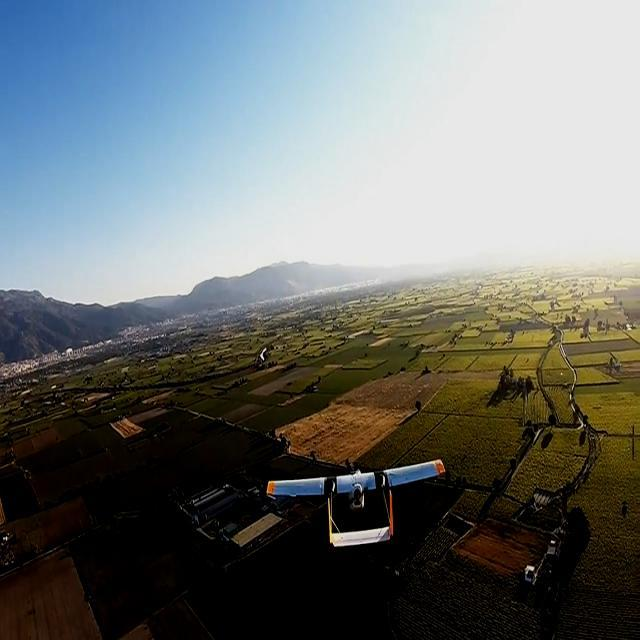iha: (263, 489, 452, 522)
